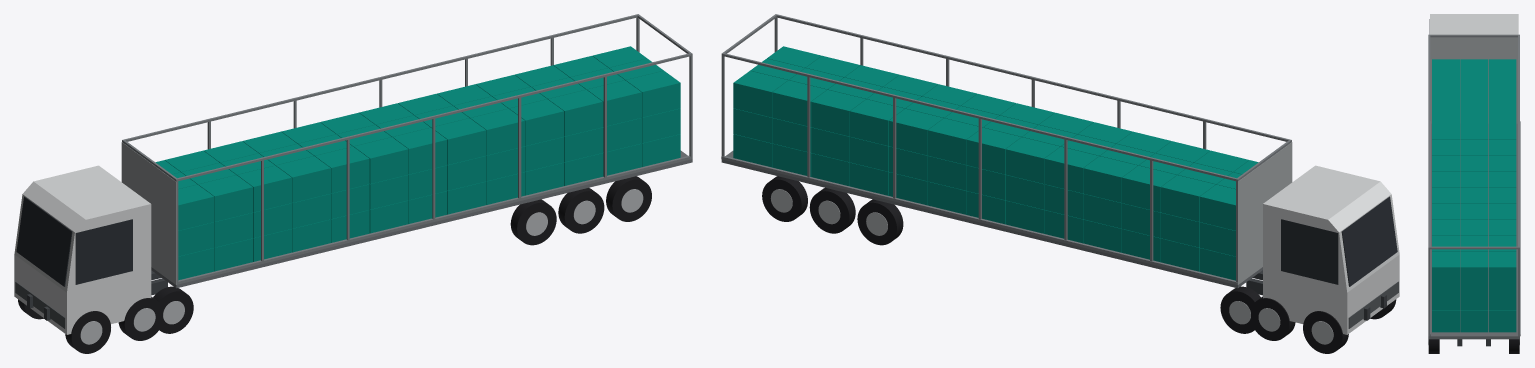
The model's file is carreta-PN11.glb.
The picture shows the model from 3 angles, left to right: view 1: azimuth 30°, elevation 25°; view 2: azimuth 150°, elevation 25°; view 3: azimuth 270°, elevation 25°; orthographic projection. The views are drawn at different scales.
Visible parts, largest first — view 1: cabine, frente, janela, part27, part19, piso, part18, part20, part107, part125, part170, part71 (+66 smaller); view 2: cabine, frente, janela, part27, part21, piso, part20, part18, part172, part109, part127, part73 (+66 smaller); view 3: frente, cabine, piso, part172, part170, part171, part166, part18, part164, part165, part169, part167 (+46 smaller).
Boxes of the visible parts, left/top/right/bottom form: cabine: left=14, top=165, right=151, bottom=334; frente: left=121, top=142, right=176, bottom=284; janela: left=75, top=219, right=132, bottom=284; part27: left=16, top=196, right=72, bottom=286; part19: left=176, top=156, right=691, bottom=284; piso: left=151, top=150, right=692, bottom=288; part18: left=175, top=53, right=692, bottom=181; part20: left=122, top=14, right=639, bottom=142; part107: left=353, top=137, right=408, bottom=183; part125: left=431, top=118, right=486, bottom=164; part170: left=625, top=71, right=680, bottom=117; part71: left=198, top=175, right=252, bottom=221; cabine: left=1263, top=165, right=1399, bottom=334; frente: left=1238, top=142, right=1292, bottom=284; janela: left=1281, top=219, right=1338, bottom=284; part27: left=1341, top=196, right=1397, bottom=286; part21: left=721, top=156, right=1237, bottom=284; piso: left=721, top=151, right=1262, bottom=288; part20: left=721, top=53, right=1238, bottom=181; part18: left=775, top=14, right=1290, bottom=141; part172: left=733, top=71, right=788, bottom=117; part109: left=1005, top=137, right=1060, bottom=183; part127: left=927, top=118, right=982, bottom=164; part73: left=1161, top=175, right=1215, bottom=221; frente: left=1430, top=37, right=1517, bottom=123; cabine: left=1430, top=14, right=1518, bottom=34; piso: left=1428, top=123, right=1519, bottom=339; part172: left=1488, top=251, right=1516, bottom=288; part170: left=1432, top=251, right=1459, bottom=288; part171: left=1460, top=251, right=1487, bottom=288; part166: left=1488, top=310, right=1516, bottom=332; part18: left=1428, top=34, right=1430, bottom=248; part164: left=1432, top=310, right=1459, bottom=332; part165: left=1460, top=310, right=1487, bottom=332; part169: left=1488, top=289, right=1516, bottom=310; part167: left=1432, top=289, right=1459, bottom=310.
Size of the model in its own units: 17.14 by 3.99 by 2.58.
